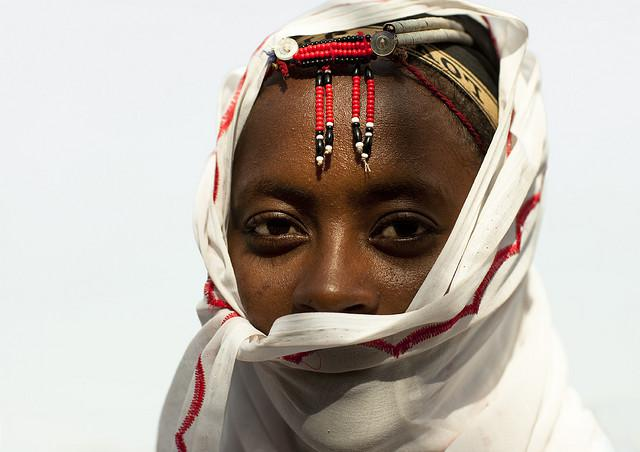WRONG: (231, 155, 496, 434)
